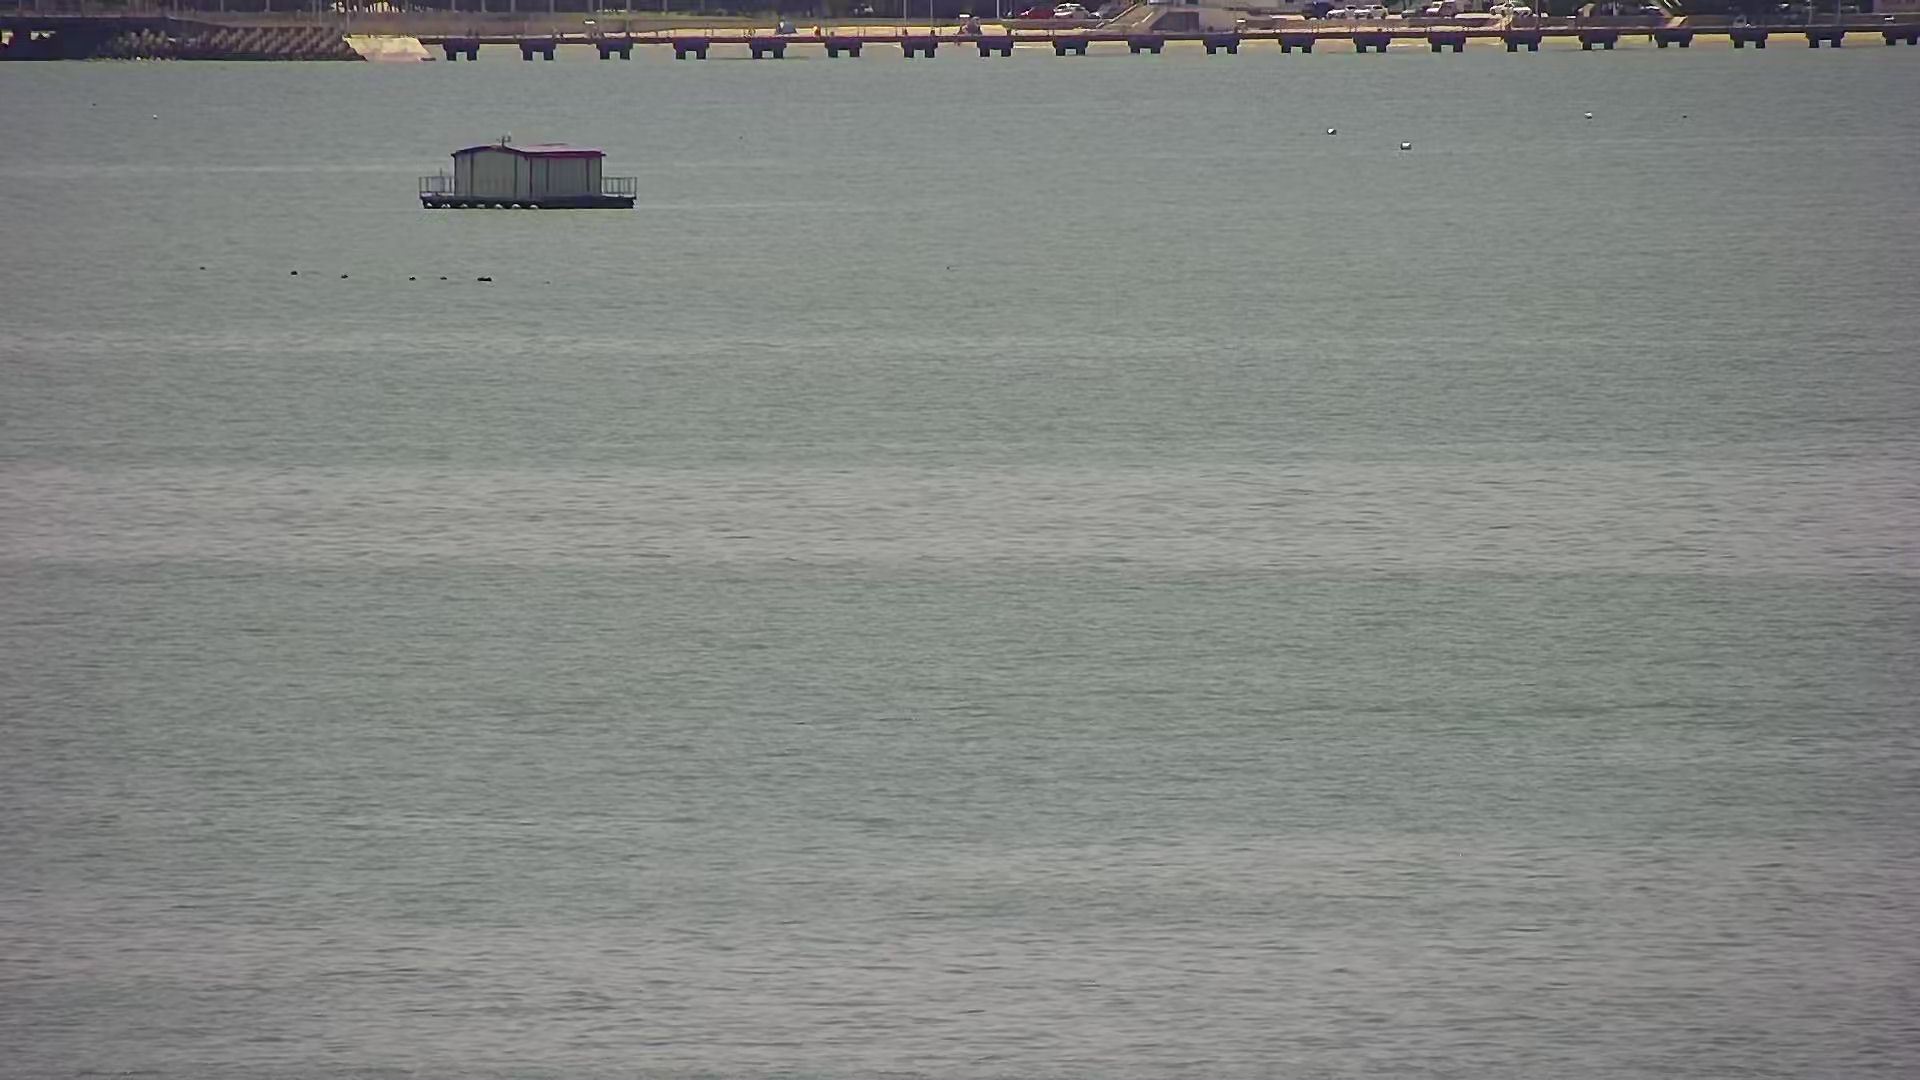bridge: (429, 20, 1920, 65)
platform: (411, 131, 636, 214)
